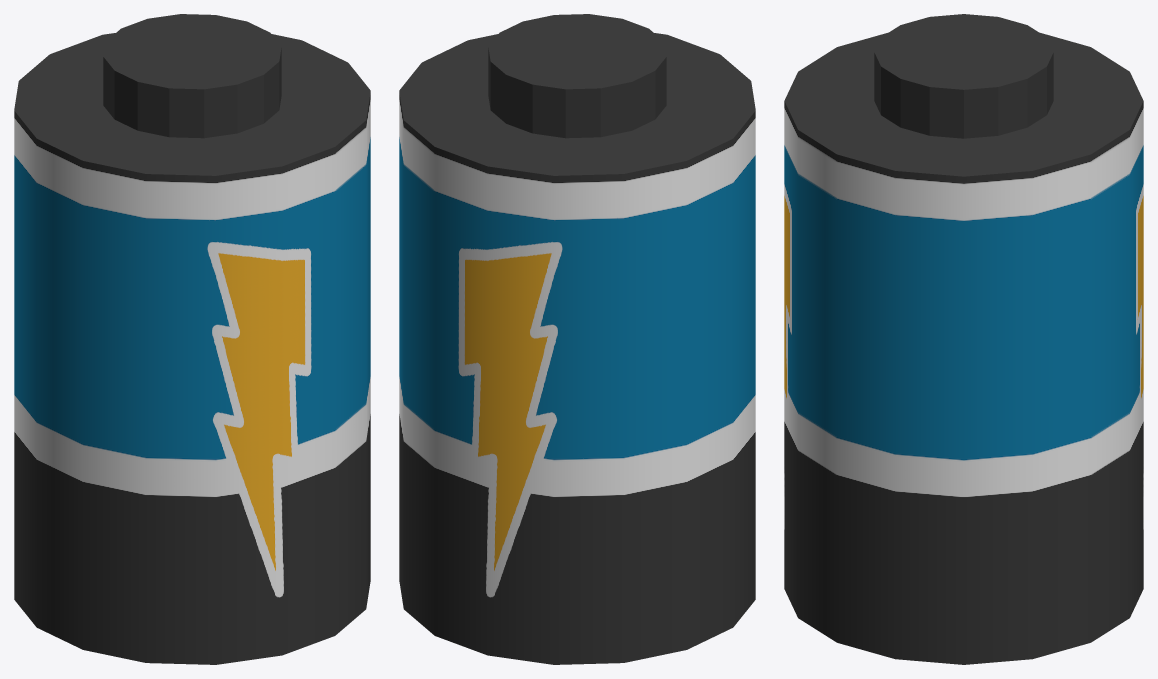
The model's file is battery.obj.
3 views of the same model, side by side, from view 1: azimuth 30°, elevation 25°; view 2: azimuth 150°, elevation 25°; view 3: azimuth 270°, elevation 25° (orthographic).
Parts seen in each view (by area): view 1: Cylinder001; view 2: Cylinder001; view 3: Cylinder001.
Boxes of the visible parts, box(x1,y1,x2,y2) form: Cylinder001: box(14, 14, 370, 664); Cylinder001: box(399, 14, 755, 664); Cylinder001: box(784, 14, 1143, 664).
Size of the model in its own units: 20 by 33 by 20.
Materials: 1 (1 with a texture image).
